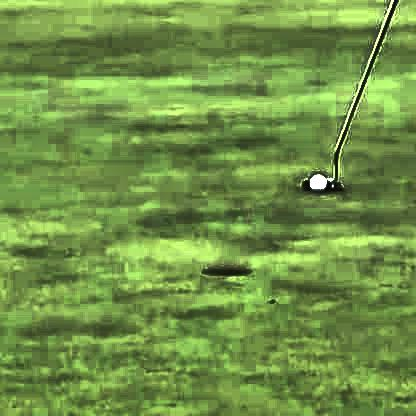golfball: (304, 169, 323, 188)
